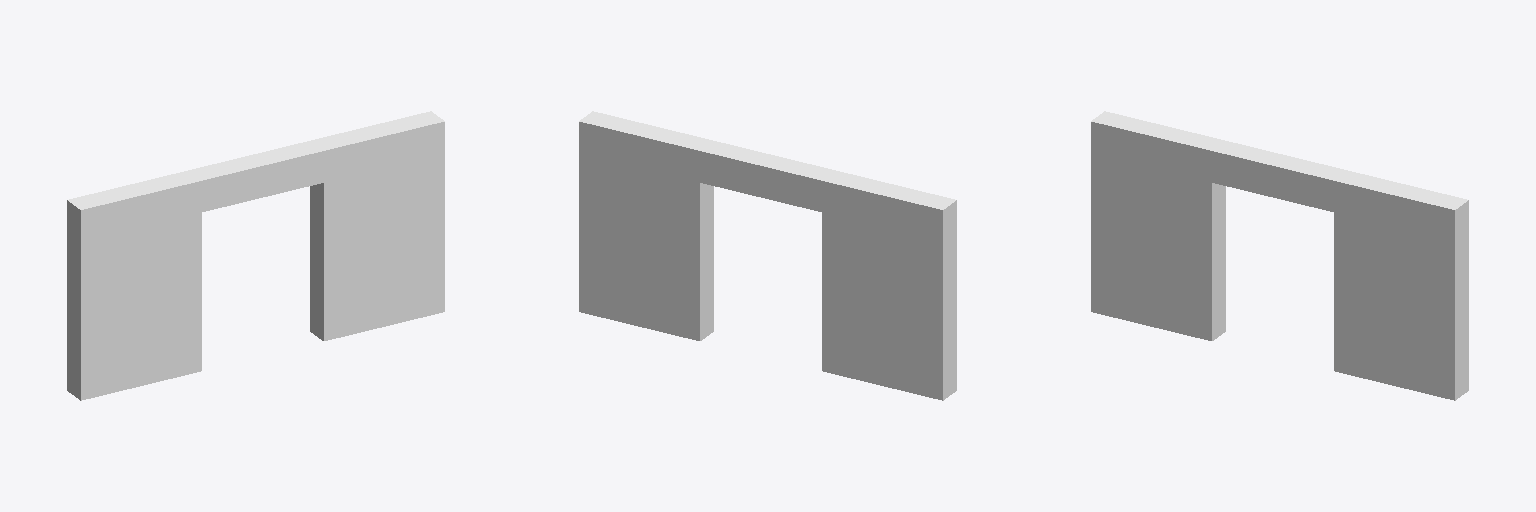
File: WallDoor.obj
3 views of the same model, side by side, from view 1: azimuth 30°, elevation 25°; view 2: azimuth 150°, elevation 25°; view 3: azimuth 330°, elevation 25° (orthographic).
Visible parts, largest first — view 1: WallDoor; view 2: WallDoor; view 3: WallDoor.
Boxes of the visible parts, <box> form: WallDoor: <box>67,111,444,400</box>; WallDoor: <box>579,111,956,400</box>; WallDoor: <box>1091,111,1468,400</box>.
Bounding box in the file's own units: 6 × 3 × 0.4.